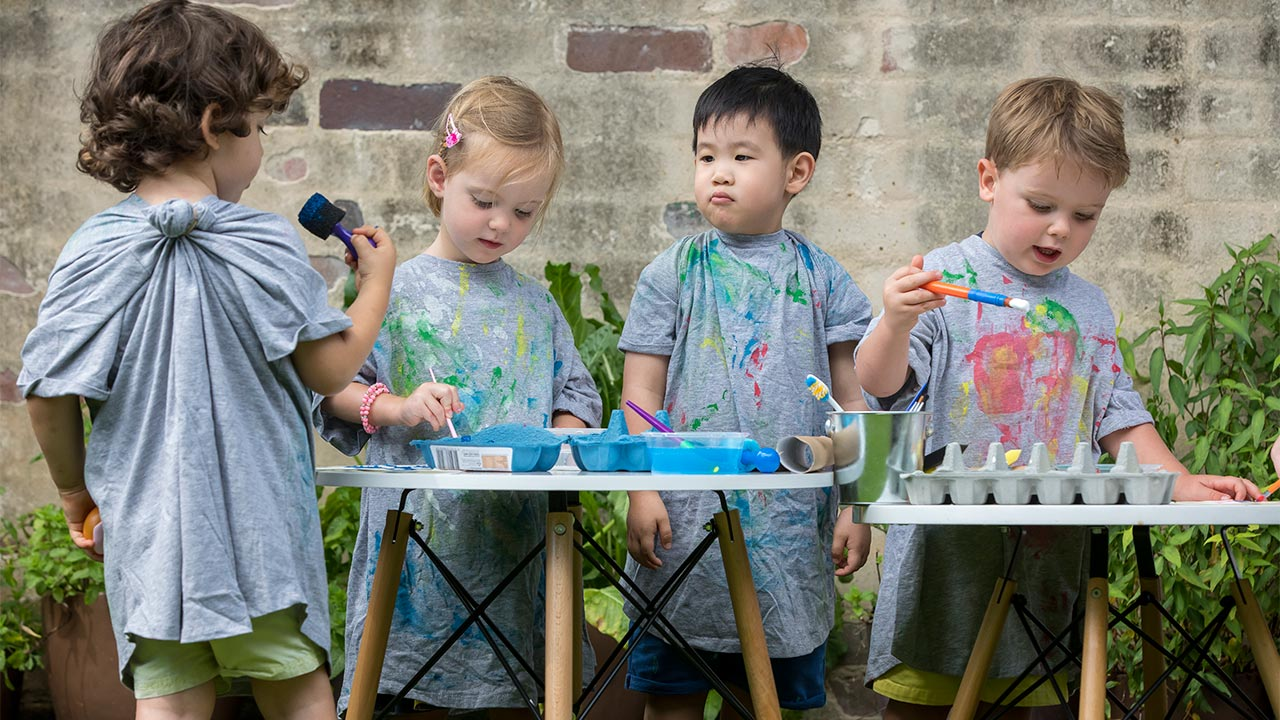human: (57, 1, 401, 720), (880, 81, 1261, 720), (627, 60, 880, 720), (357, 66, 597, 720)
